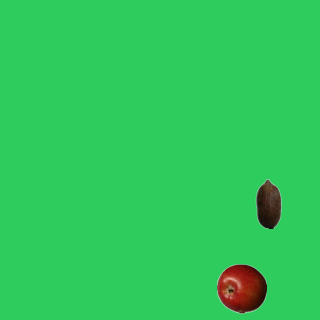Apple Braeburn: (216, 263, 266, 313)
Nut Pecan: (243, 178, 293, 228)
